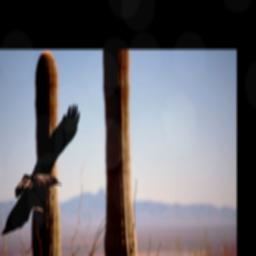Crow: (0, 102, 82, 238)
